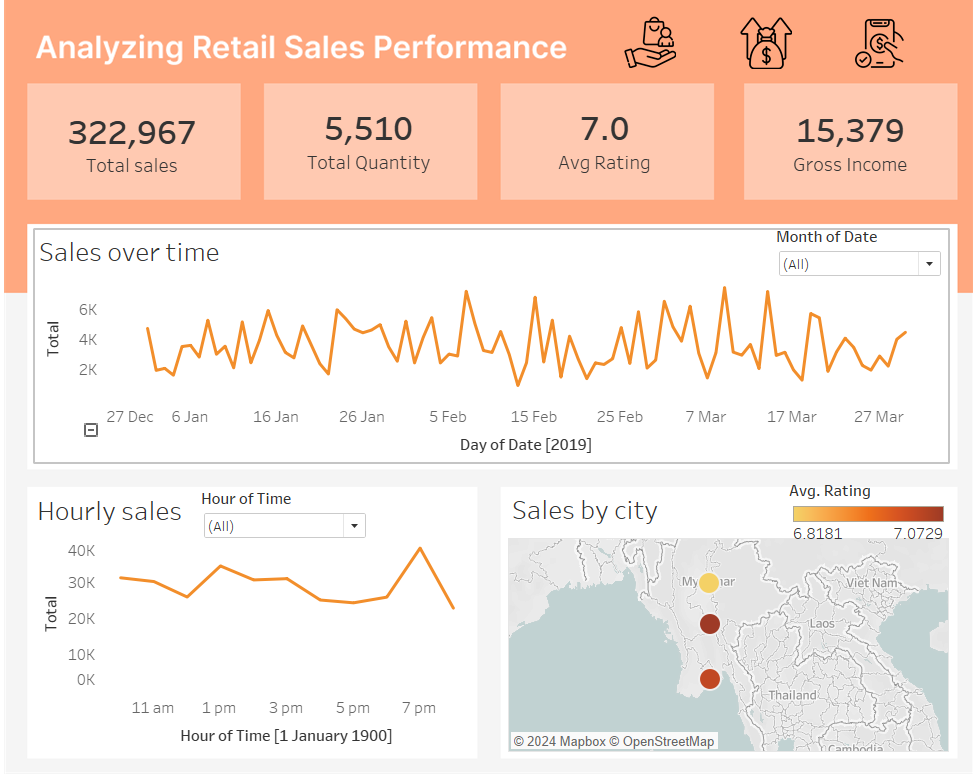

Layout of this report page (visuals, bound fields, positions):
{"tool":"tableau","page":{"name":"Sales overview dashboard","canvas":[1000,800],"ordinal":3},"visuals":[{"type":"image","param":"C:/Users/MEGHANA L/Downloads/Retail sales (2).png","box":[8,8,984,784]},{"type":"dashboard-object","box":[602,30,118,52]},{"type":"dashboard-object","box":[724,31,106,52]},{"type":"dashboard-object","box":[838,31,104,52]},{"type":"worksheet","title":"Avg Rating","mark":"Automatic","box":[511,101,210,105]},{"type":"worksheet","title":"Gross income","mark":"Automatic","box":[763,103,197,105]},{"type":"worksheet","title":"Total quantity","mark":"Automatic","box":[278,104,206,99]},{"type":"worksheet","title":"Total sales","mark":"Automatic","box":[44,108,199,98]},{"type":"filter","title":"Sales over time","param":"[federated.0cb9kpj1jnonko13j0xfv08zz159].[mn:Date:ok]","box":[787,240,168,58]},{"type":"worksheet","title":"Sales over time","mark":"Line","rows":["Total"],"cols":["Date"],"box":[46,244,913,232]},{"type":"legend","title":"Sales by city","param":"[federated.0cb9kpj1jnonko13j0xfv08zz159].[avg:Rating:qk]","box":[800,494,159,61]},{"type":"filter","title":"Hourly sales","param":"[federated.0cb9kpj1jnonko13j0xfv08zz159].[hr:Time:ok]","box":[212,502,168,53]},{"type":"worksheet","title":"Sales by city","mark":"Automatic","box":[519,502,441,264]},{"type":"worksheet","title":"Hourly sales","mark":"Automatic","rows":["Total"],"cols":["Time"],"box":[44,503,438,264]}]}

Visuals, with their boxes in screenshot pixels (x1, y1, x2, y2), scaled from the page's 1000x800 canvas onto the 973x779 screenshot:
image: bbox=(8, 8, 965, 771)
dashboard-object: bbox=(586, 29, 701, 80)
dashboard-object: bbox=(704, 30, 808, 81)
dashboard-object: bbox=(815, 30, 917, 81)
"Avg Rating" worksheet: bbox=(497, 98, 702, 201)
"Gross income" worksheet: bbox=(742, 100, 934, 203)
"Total quantity" worksheet: bbox=(270, 101, 471, 198)
"Total sales" worksheet: bbox=(43, 105, 236, 201)
"Sales over time" filter: bbox=(766, 234, 929, 290)
"Sales over time" worksheet (Line marks): bbox=(45, 238, 933, 464)
"Sales by city" legend: bbox=(778, 481, 933, 540)
"Hourly sales" filter: bbox=(206, 489, 370, 540)
"Sales by city" worksheet: bbox=(505, 489, 934, 746)
"Hourly sales" worksheet: bbox=(43, 490, 469, 747)
